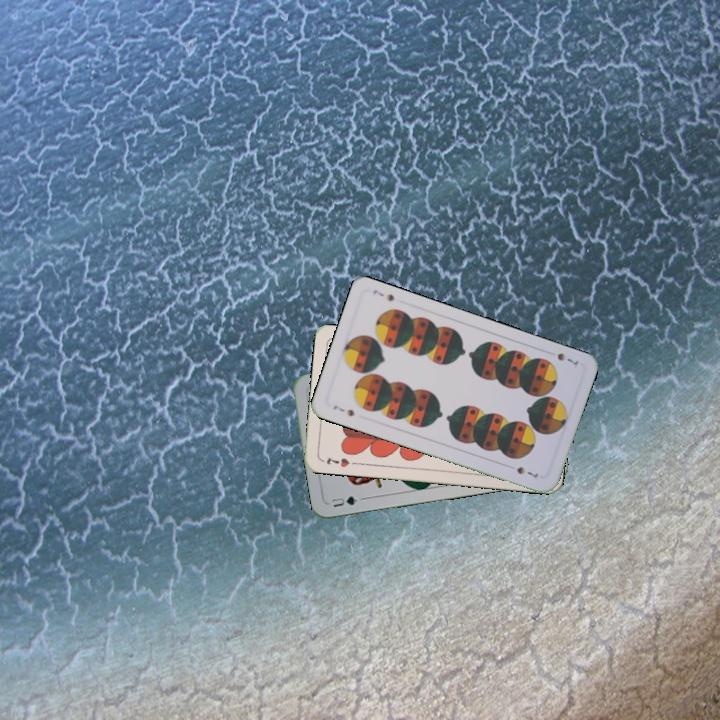GU: (328, 492, 366, 510)
H7: (323, 453, 352, 470)
S7: (553, 349, 581, 370), (329, 401, 357, 419)
